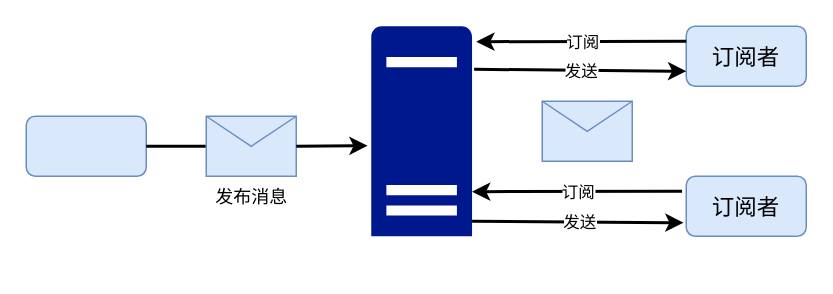
This 833x294 diagram has some shape labels left out. Here are the shapes that lost their labels. From the top down, the box of each, then its label:
(25, 115, 146, 176): 发布者
(370, 26, 471, 236): 数据存储池
